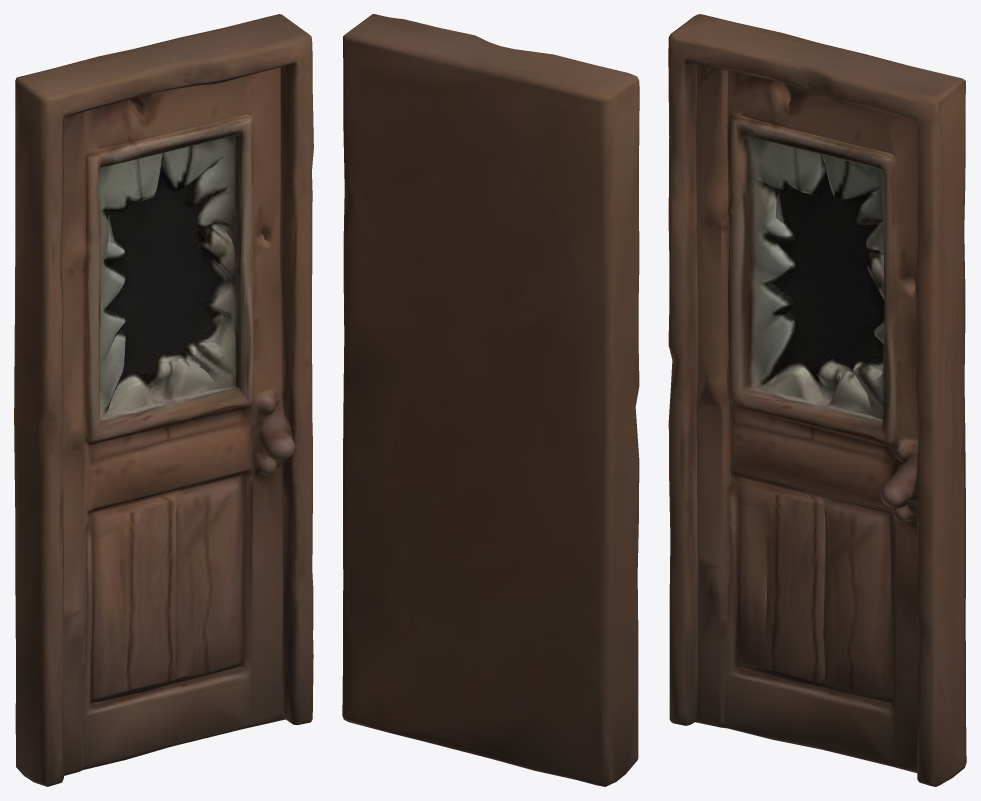
Rendered from door_6.glb.
The picture shows the model from 3 angles, left to right: view 1: azimuth 30°, elevation 25°; view 2: azimuth 150°, elevation 25°; view 3: azimuth 330°, elevation 25°; orthographic projection.
Parts seen in each view (by area): view 1: door; view 2: door; view 3: door.
Part boxes in pixels (x1,y1,x2,y2): door: [14, 14, 313, 786]; door: [342, 14, 639, 786]; door: [668, 14, 966, 786].
Bounding box in the file's own units: 0.8523 × 2.1 × 0.2381.
Materials: 1 (1 with a texture image).
